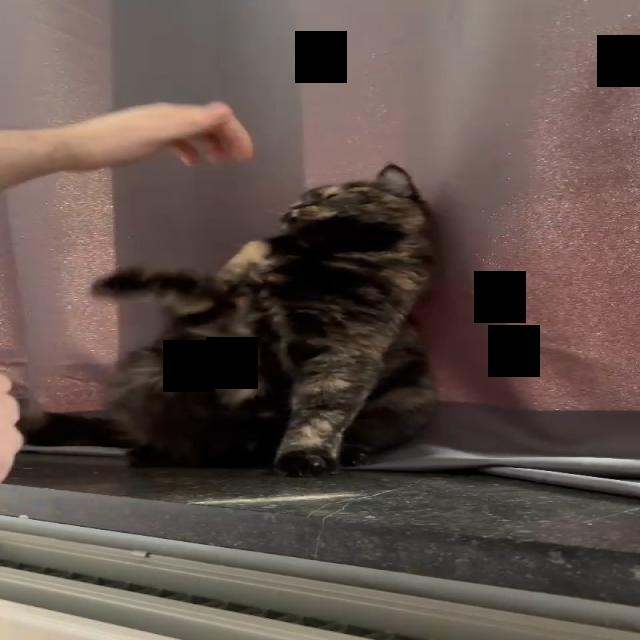authorized: (87, 162, 440, 477)
